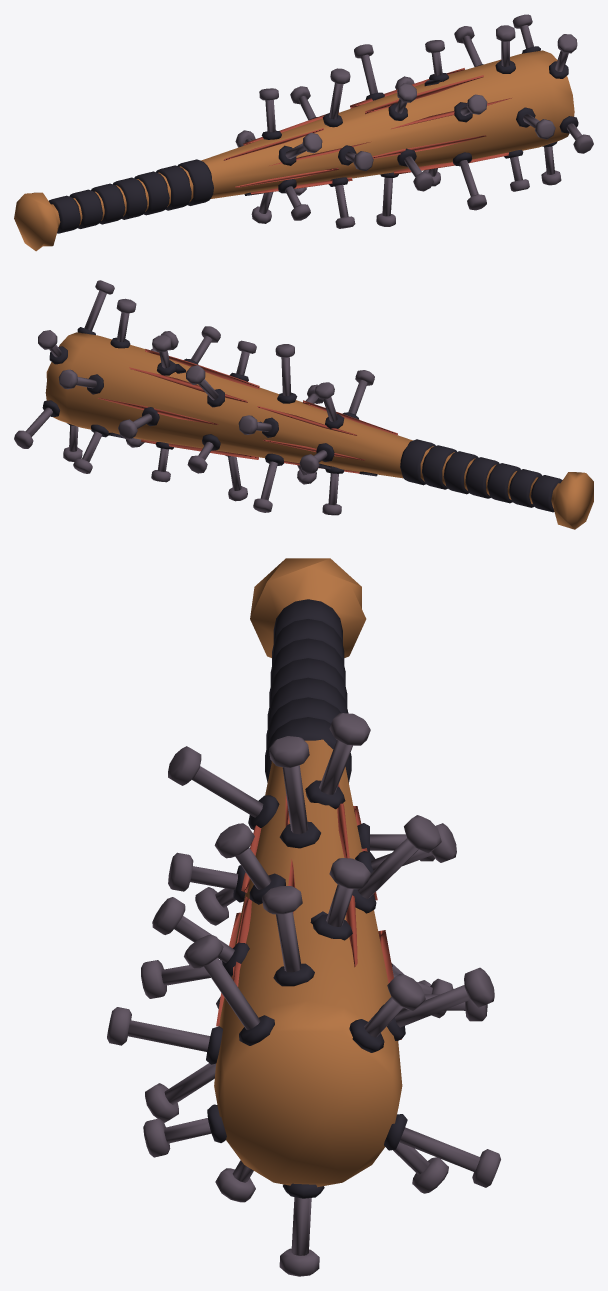
3 renders of one model, top to bottom at view 1: azimuth 30°, elevation 25°; view 2: azimuth 150°, elevation 25°; view 3: azimuth 270°, elevation 25°, orthographic. The views are drawn at different scales.
Parts seen in each view (by area): view 1: object 2, body; view 2: object 2, body; view 3: object 2, body.
Part boxes in pixels (left/top/right/bottom): object 2: left=49, top=14, right=593, bottom=233; body: left=14, top=50, right=574, bottom=251; object 2: left=14, top=280, right=562, bottom=515; body: left=45, top=332, right=593, bottom=529; object 2: left=107, top=599, right=500, bottom=1276; body: left=214, top=558, right=402, bottom=1187.
Bounding box in the file's own units: 1 × 0.2999 × 0.3184.
